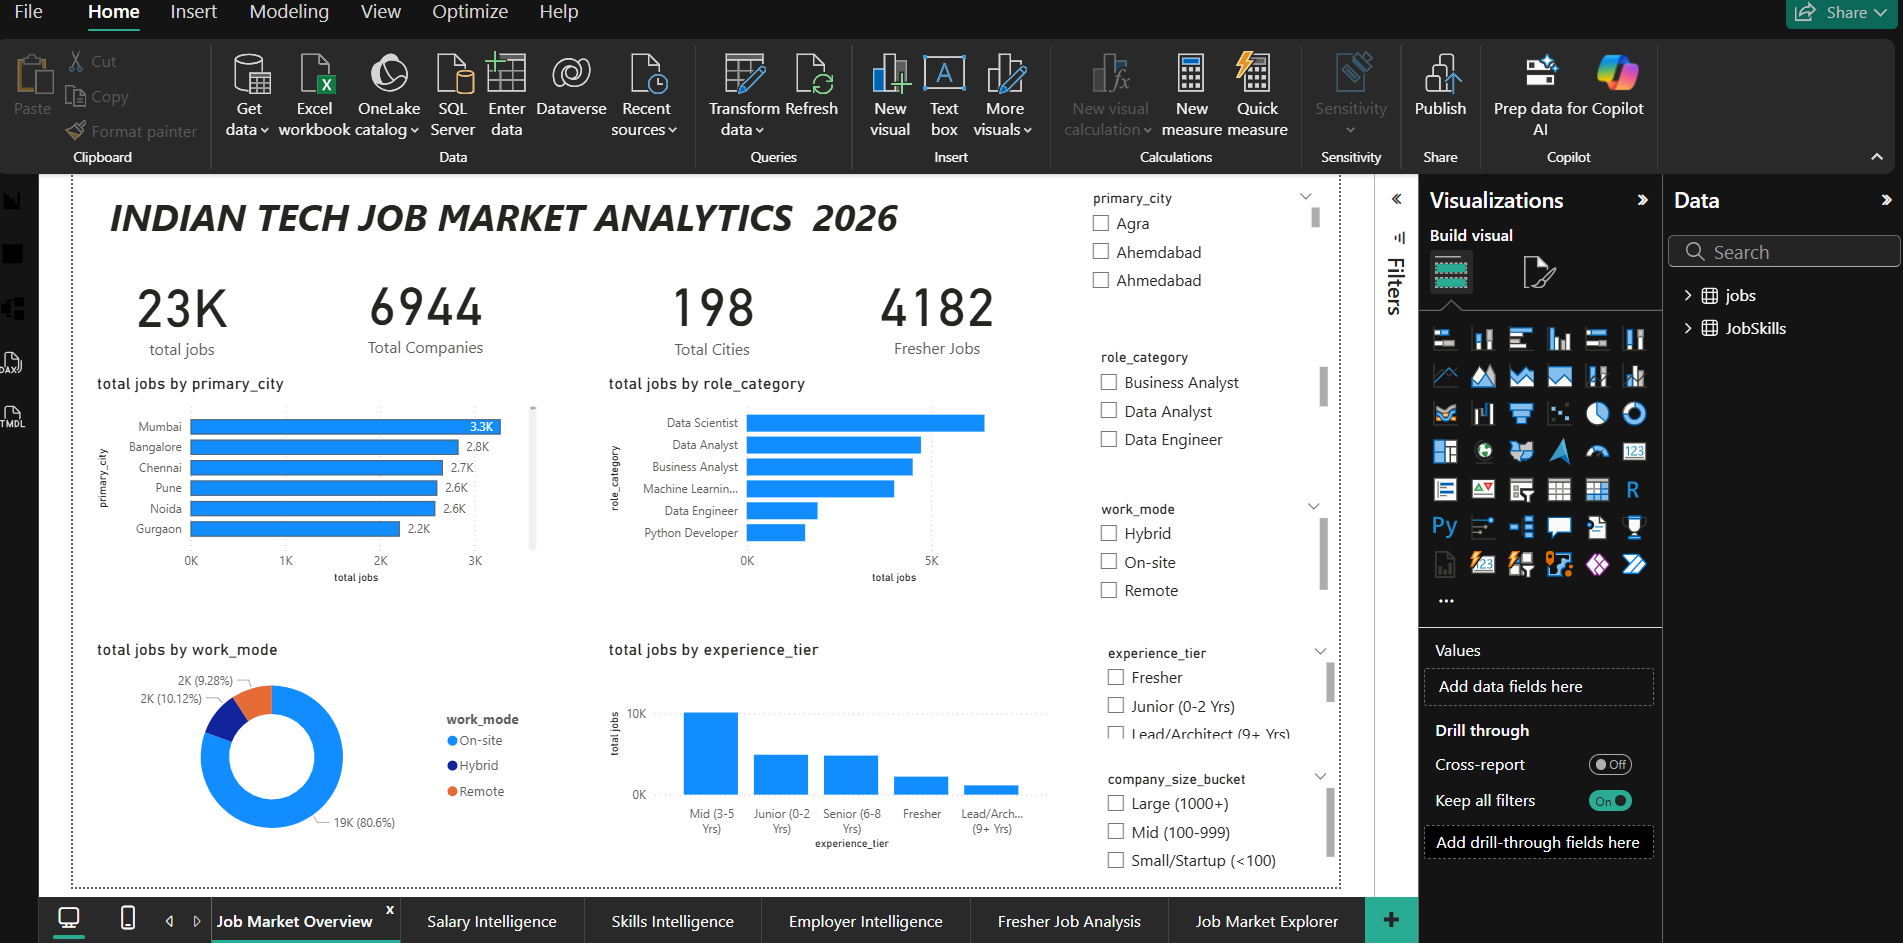

The dashboard page shown, as its layout file describes it:
{"tool":"powerbi","page":{"name":"Job Market Overview","canvas":[1280,720],"ordinal":0},"visuals":[{"type":"clusteredBarChart","fields":{"Category":["jobs.primary_city"],"Y":["jobs.total jobs"]},"box":[19.1,202,454.5,217],"z":0},{"type":"barChart","fields":{"Category":["jobs.role_category"],"Y":["jobs.total jobs"]},"box":[536.4,202,454.5,217],"z":1000},{"type":"donutChart","fields":{"Category":["jobs.work_mode"],"Y":["jobs.total jobs"]},"box":[19.1,470.9,454.5,217],"z":2000},{"type":"clusteredColumnChart","fields":{"Category":["jobs.experience_tier"],"Y":["jobs.total jobs"]},"box":[536.4,470.9,454.5,217],"z":3000},{"type":"slicer","fields":{"Values":["jobs.primary_city"]},"box":[1017.7,10.9,247,115.7],"z":4000},{"type":"slicer","fields":{"Values":["jobs.work_mode"]},"box":[1027.1,325.2,247,112.6],"z":5000},{"type":"slicer","fields":{"Values":["jobs.role_category"]},"box":[1027.1,172,247,112.6],"z":6000},{"type":"slicer","fields":{"Values":["jobs.experience_tier"]},"box":[1033.4,470.6,247,104.7],"z":7000},{"type":"slicer","fields":{"Values":["jobs.company_size_bucket"]},"box":[1033.4,597.2,247,109.4],"z":8000},{"type":"textbox","box":[21.9,12.5,903.6,70.4],"z":9000},{"type":"card","fields":{"Values":["jobs.total jobs"]},"box":[0,84.6,219.8,107.8],"z":10000},{"type":"card","fields":{"Values":["jobs.Total Companies"]},"box":[247.1,83.3,218.4,106.5],"z":11000},{"type":"card","fields":{"Values":["jobs.Total Cities"]},"box":[536.4,84.6,219,107],"z":12000},{"type":"card","fields":{"Values":["jobs.Fresher Jobs"]},"box":[764.4,84.6,218.4,106.5],"z":13000}]}

Visuals, with their boxes on the page's 1280x720 design canvas (x1, y1, x2, y2). These are canvas units, not pixel positions in the 1903x943 screenshot, which may show the page scaled, cropped or inside an application window:
clusteredBarChart - jobs.primary_city x jobs.total jobs: BBox(19, 202, 474, 419)
barChart - jobs.role_category x jobs.total jobs: BBox(536, 202, 991, 419)
donutChart - jobs.work_mode x jobs.total jobs: BBox(19, 471, 474, 688)
clusteredColumnChart - jobs.experience_tier x jobs.total jobs: BBox(536, 471, 991, 688)
slicer - jobs.primary_city: BBox(1018, 11, 1265, 127)
slicer - jobs.work_mode: BBox(1027, 325, 1274, 438)
slicer - jobs.role_category: BBox(1027, 172, 1274, 285)
slicer - jobs.experience_tier: BBox(1033, 471, 1280, 575)
slicer - jobs.company_size_bucket: BBox(1033, 597, 1280, 707)
textbox: BBox(22, 12, 926, 83)
card - jobs.total jobs: BBox(0, 85, 220, 192)
card - jobs.Total Companies: BBox(247, 83, 466, 190)
card - jobs.Total Cities: BBox(536, 85, 755, 192)
card - jobs.Fresher Jobs: BBox(764, 85, 983, 191)
